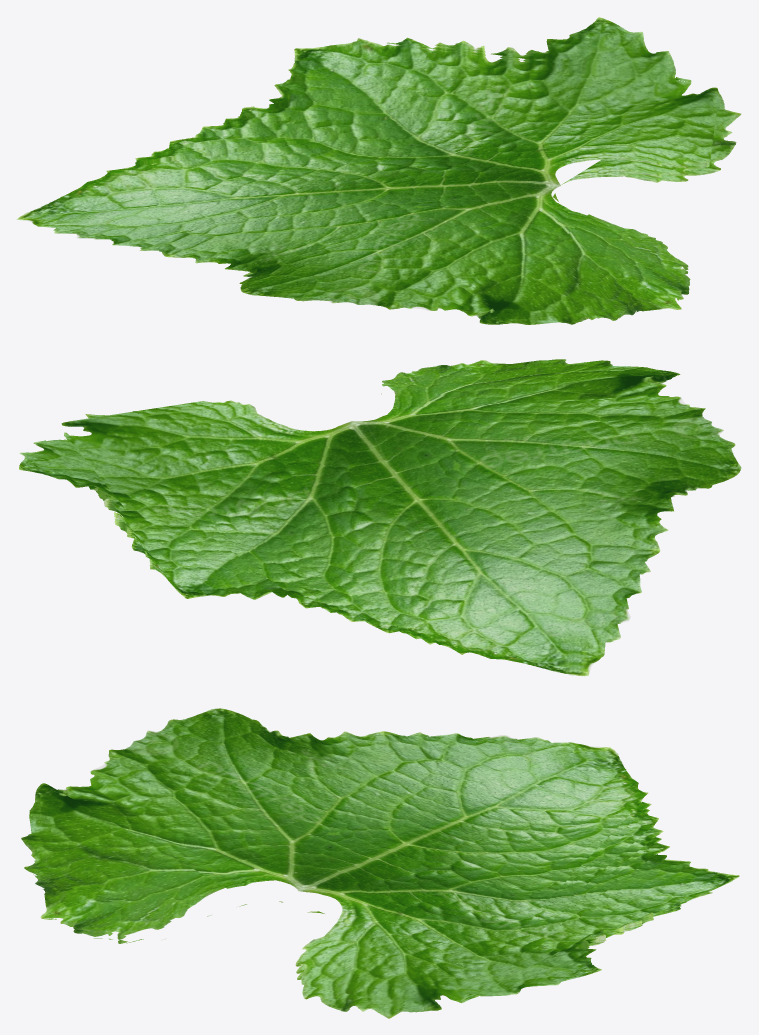
The model's file is SlothLEAF2.fbx.
3 renders of one model, top to bottom at view 1: azimuth 30°, elevation 25°; view 2: azimuth 150°, elevation 25°; view 3: azimuth 270°, elevation 25°, orthographic. The views are drawn at different scales.
Parts seen in each view (by area): view 1: leaf3; view 2: leaf3; view 3: leaf3.
Part boxes in pixels (<box>): leaf3: <box>16,17,741,324</box>; leaf3: <box>19,359,741,676</box>; leaf3: <box>21,708,739,1018</box>.
Size of the model in its own units: 0.9804 by 0.0985 by 0.9796.
